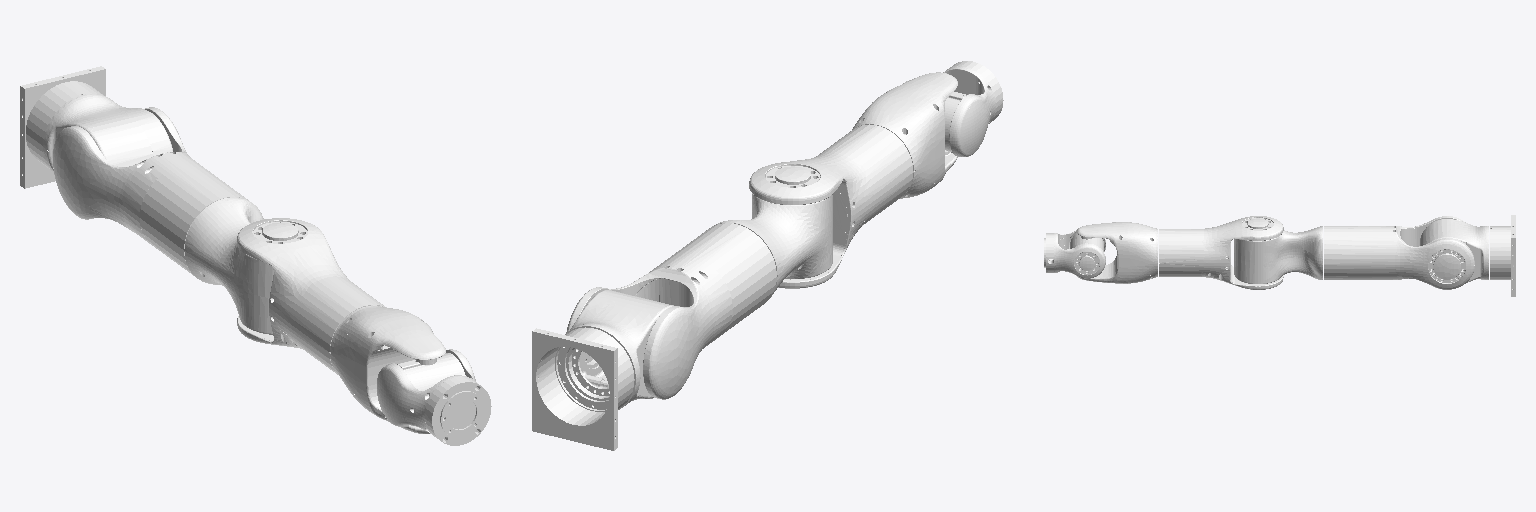
robot.urdf — hb:
<?xml version="1.0" ?>
<!-- =================================================================================== -->
<!-- |    This document was autogenerated by xacro from /home/hb_arm/hb_arm_ros/src/huibo_description/urdf/v2/hb.urdf.xacro | -->
<!-- |    EDITING THIS FILE BY HAND IS NOT RECOMMENDED                                 | -->
<!-- =================================================================================== -->
<robot name="hb">
  <material name="aluminum">
    <color rgba="0.5 0.5 0.5 1"/>
  </material>
  <material name="plastic">
    <color rgba="0.1 0.1 0.1 1"/>
  </material>
  <link name="world"/>
  
  <link name="right_arm_base_link">
    <inertial>
      <origin
        xyz="9.03326524692716E-10 -0.119958397416922 -0.00620409850104719"
        rpy="0 0 0" />
      <mass
        value="0.0671415769815536" />
      <inertia
        ixx="9.51750062461284E-05"
        ixy="-7.30135845175366E-13"
        ixz="-1.55986140816554E-12"
        iyy="0.000143710556150119"
        iyz="4.97688397307115E-06"
        izz="7.56630002321303E-05" />
    </inertial>
    <visual>
      <origin
        xyz="0 0 0"
        rpy="0 0 0" />
      <geometry>
        <mesh
          filename="package://huibo_description/meshes/right_arm_base_link.STL" />
      </geometry>
      <material
        name="">
        <color
          rgba="1 1 1 1" />
      </material>
    </visual>
    <collision>
      <origin
        xyz="0 0 0"
        rpy="0 0 0" />
      <geometry>
        <mesh
          filename="package://huibo_description/meshes/right_arm_base_link.STL" />
      </geometry>
    </collision>
  </link>
  <joint name="right_joint0" type="fixed">
    <origin
      xyz="0 0 0"
      rpy="0 0 0" />
    <parent
      link="world" />
    <child
      link="right_arm_base_link" />
    <axis
      xyz="0 0 0" />
  </joint>
  <link name="right_link1">
    <inertial>
      <origin
        xyz="0.00310007594390432 -4.01804102789782E-06 -0.0216577987063526"
        rpy="0 0 0" />
      <mass
        value="0.105773209586802" />
      <inertia
        ixx="0.000254333846536613"
        ixy="-2.28796237530128E-09"
        ixz="-1.28937015530947E-05"
        iyy="0.000192271240590925"
        iyz="-1.34137606334811E-08"
        izz="0.000142073719061018" />
    </inertial>
    <visual>
      <origin
        xyz="0 0 0"
        rpy="0 0 0" />
      <geometry>
        <mesh
          filename="package://huibo_description/meshes/right_link1.STL" />
      </geometry>
      <material
        name="">
        <color
          rgba="1 1 1 1" />
      </material>
    </visual>
    <collision>
      <origin
        xyz="0 0 0"
        rpy="0 0 0" />
      <geometry>
        <mesh
          filename="package://huibo_description/meshes/right_link1.STL" />
      </geometry>
    </collision>
  </link>
  <joint name="right_joint1" type="revolute">
    <origin
      xyz="0 -0.216 0"
      rpy="1.5708 3.14159 0" />
    <parent
      link="right_arm_base_link" />
    <child
      link="right_link1" />
    <axis
      xyz="0 0 1" />
    <limit
      lower="-3.106686016"
      upper="3.106686016"
      effort="0"
      velocity="0" />
  </joint>
  <link name="right_link2">
    <inertial>
      <origin
        xyz="0.0821514626056691 4.88290914146816E-07 0.00409838177831601"
        rpy="0 0 0" />
      <mass
        value="0.284653521482877" />
      <inertia
        ixx="0.000396832743321582"
        ixy="3.07846002516093E-09"
        ixz="0.000259049007612706"
        iyy="0.00146652495249631"
        iyz="1.69898927062168E-09"
        izz="0.00147410102916923" />
    </inertial>
    <visual>
      <origin
        xyz="0 0 0"
        rpy="0 0 0" />
      <geometry>
        <mesh
          filename="package://huibo_description/meshes/right_link2.STL" />
      </geometry>
      <material
        name="">
        <color
          rgba="1 1 1 1" />
      </material>
    </visual>
    <collision>
      <origin
        xyz="0 0 0"
        rpy="0 0 0" />
      <geometry>
        <mesh
          filename="package://huibo_description/meshes/right_link2.STL" />
      </geometry>
    </collision>
  </link>
  <joint name="right_joint2" type="revolute">
    <origin
      xyz="0 0 0"
      rpy="0 -1.5708 0" />
    <parent
      link="right_link1" />
    <child
      link="right_link2" />
    <axis
      xyz="0 0 1" />
    <limit
      lower="-2.094395067"
      upper="2.094395067"
      effort="0"
      velocity="0" />
  </joint>
  <link name="right_link3">
    <inertial>
      <origin
        xyz="-0.00291436923611121 0.00476864585184211 -0.0441892427801851"
        rpy="0 0 0" />
      <mass
        value="0.123533712885629" />
      <inertia
        ixx="0.000319012193658975"
        ixy="1.35725866537985E-06"
        ixz="-5.39691677614134E-06"
        iyy="0.000361652710631684"
        iyz="-3.00330155143357E-05"
        izz="0.000118266427511893" />
    </inertial>
    <visual>
      <origin
        xyz="0 0 0"
        rpy="0 0 0" />
      <geometry>
        <mesh
          filename="package://huibo_description/meshes/right_link3.STL" />
      </geometry>
      <material
        name="">
        <color
          rgba="1 1 1 1" />
      </material>
    </visual>
    <collision>
      <origin
        xyz="0 0 0"
        rpy="0 0 0" />
      <geometry>
        <mesh
          filename="package://huibo_description/meshes/right_link3.STL" />
      </geometry>
    </collision>
  </link>
  <joint name="right_joint3" type="revolute">
    <origin
      xyz="0.31 0 0"
      rpy="3.14159 -1.5708 0" />
    <parent
      link="right_link2" />
    <child
      link="right_link3" />
    <axis
      xyz="0 0 1" />
    <limit
      lower="-3.106686016"
      upper="3.106686016"
      effort="0"
      velocity="0" />
  </joint>
  <link name="right_link4">
    <inertial>
      <origin
        xyz="0.0634612854111615 -2.23162369528129E-07 0.0043441769349406"
        rpy="0 0 0" />
      <mass
        value="0.23231923033472" />
      <inertia
        ixx="0.00027587323333452"
        ixy="2.64938674502448E-08"
        ixz="0.000172594944789938"
        iyy="0.000835332613761274"
        iyz="-1.22420860766084E-08"
        izz="0.000833101311085542" />
    </inertial>
    <visual>
      <origin
        xyz="0 0 0"
        rpy="0 0 0" />
      <geometry>
        <mesh
          filename="package://huibo_description/meshes/right_link4.STL" />
      </geometry>
      <material
        name="">
        <color
          rgba="1 1 1 1" />
      </material>
    </visual>
    <collision>
      <origin
        xyz="0 0 0"
        rpy="0 0 0" />
      <geometry>
        <mesh
          filename="package://huibo_description/meshes/right_link4.STL" />
      </geometry>
    </collision>
  </link>
  <joint name="right_joint4" type="revolute">
    <origin
      xyz="0 0 0"
      rpy="1.5708 -1.5708 3.1459" />
    <parent
      link="right_link3" />
    <child
      link="right_link4" />
    <axis
      xyz="0 0 1" />
    <limit lower="-1.5708" upper="2.268927989" effort="0" velocity="0" />
  </joint>
  <link name="right_link5">
    <inertial>
      <origin
        xyz="-2.60221349401846E-06 -0.00381296804448183 -0.0671636478890294"
        rpy="0 0 0" />
      <mass
        value="0.104201667996597" />
      <inertia
        ixx="0.000149520066880692"
        ixy="-1.10859909174464E-09"
        ixz="-3.6420811702118E-08"
        iyy="0.000178193405871403"
        iyz="-1.7532599403269E-05"
        izz="9.0143920494967E-05" />
    </inertial>
    <visual>
      <origin
        xyz="0 0 0"
        rpy="0 0 0" />
      <geometry>
        <mesh
          filename="package://huibo_description/meshes/right_link5.STL" />
      </geometry>
      <material
        name="">
        <color
          rgba="1 1 1 1" />
      </material>
    </visual>
    <collision>
      <origin
        xyz="0 0 0"
        rpy="0 0 0" />
      <geometry>
        <mesh
          filename="package://huibo_description/meshes/right_link5.STL" />
      </geometry>
    </collision>
  </link>
  <joint name="right_joint5" type="revolute">
    <origin
      xyz="0.28 0 0"
      rpy="1.5708 3.14159 1.5708" />
    <parent
      link="right_link4" />
    <child
      link="right_link5" />
    <axis
      xyz="0 0 1" />
    <limit
      lower="-1.5708"
      upper="1.5708"
      effort="0"
      velocity="0" />
  </joint>
  <link name="right_link6">
    <inertial>
      <origin
        xyz="-4.38982366013363E-08 0.00658692441934428 -0.000132984127321212"
        rpy="0 0 0" />
      <mass
        value="0.021492752216086" />
      <inertia
        ixx="1.64043760303545E-05"
        ixy="-7.48461235974773E-12"
        ixz="-6.8018262436478E-12"
        iyy="1.56028384124993E-05"
        iyz="4.02726095194557E-08"
        izz="1.49391291039311E-05" />
    </inertial>
    <visual>
      <origin
        xyz="0 0 0"
        rpy="0 0 0" />
      <geometry>
        <mesh
          filename="package://huibo_description/meshes/right_link6.STL" />
      </geometry>
      <material
        name="">
        <color
          rgba="1 1 1 1" />
      </material>
    </visual>
    <collision>
      <origin
        xyz="0 0 0"
        rpy="0 0 0" />
      <geometry>
        <mesh
          filename="package://huibo_description/meshes/right_link6.STL" />
      </geometry>
    </collision>
  </link>
  <joint name="right_joint6" type="revolute">
    <origin
      xyz="0 0 0"
      rpy="1.5708 -1.5708 0" />
    <parent
      link="right_link5" />
    <child
      link="right_link6" />
    <axis
      xyz="0 0 -1" />
    <limit
      lower="-0.750491566"
      upper="0.750491566"
      effort="0"
      velocity="0" />
  </joint>
  <link name="right_link7">
    <inertial>
      <origin
        xyz="0.0342373339993434 1.07272353133681E-06 0.0052709269135755"
        rpy="0 0 0" />
      <mass
        value="0.0613135142457787" />
      <inertia
        ixx="3.40873334021649E-05"
        ixy="-3.60802636762069E-09"
        ixz="8.59620311459112E-06"
        iyy="4.36623823969248E-05"
        iyz="-1.14446984499256E-09"
        izz="4.42602150677363E-05" />
    </inertial>
    <visual>
      <origin
        xyz="0 0 0"
        rpy="0 0 0" />
      <geometry>
        <mesh
          filename="package://huibo_description/meshes/right_link7.STL" />
      </geometry>
      <material
        name="">
        <color
          rgba="1 1 1 1" />
      </material>
    </visual>
    <collision>
      <origin
        xyz="0 0 0"
        rpy="0 0 0" />
      <geometry>
        <mesh
          filename="package://huibo_description/meshes/right_link7.STL" />
      </geometry>
    </collision>
  </link>
  <joint name="right_joint7" type="revolute">
    <origin
      xyz="0 0 0"
      rpy="-1.5708 0 0" />
    <parent
      link="right_link6" />
    <child
      link="right_link7" />
    <axis
      xyz="0 0 1" />
    <limit
      lower="-0.750491566"
      upper="0.750491566"
      effort="0"
      velocity="0" />
  </joint>

  <link name="right_arm_end_link"/>
    
  <joint name="right_end_joint" type="fixed">
    <origin
      xyz="0.068 0 0"
      rpy="1.5708 0 0" />
    <parent
      link="right_link7" />
    <child
      link="right_arm_end_link" />
    <axis
      xyz="0 0 0" />
  </joint>

  <link name="right_gripper_base_link"/>
    
  <joint name="right_gripper_joint" type="fixed">
    <origin
      xyz="0.0 0 0"
      rpy="0 0 0" />
    <parent
      link="right_arm_end_link" />
    <child
      link="right_gripper_base_link" />
    <axis
      xyz="0 0 0" />
  </joint>

</robot>

--- Render facts (derived) ---
The picture shows the robot from 3 angles, left to right: view 1: azimuth 30°, elevation 25°; view 2: azimuth 150°, elevation 25°; view 3: azimuth 270°, elevation 25°; orthographic projection.
Robot: hb — 11 links, 10 joints (7 revolute, 3 fixed); root link world; default pose: all joints at 0.
Visible links, largest first — view 1: right_link2, right_link4, right_link5, right_link3, right_link7, right_link1, right_arm_base_link, right_link6; view 2: right_link2, right_link4, right_arm_base_link, right_link5, right_link3, right_link1, right_link7; view 3: right_link2, right_link4, right_link3, right_link5, right_link7, right_link1, right_arm_base_link.
Boxes of the visible links, x1,y1,x2,y2 form: right_link2: (53,107,247,275); right_link4: (237,218,386,374); right_link5: (330,305,445,433); right_link3: (184,197,273,334); right_link7: (377,349,491,445); right_link1: (43,94,172,172); right_arm_base_link: (20,66,105,188); right_link6: (397,353,465,390); right_link2: (566,223,776,399); right_link4: (749,124,913,288); right_arm_base_link: (532,327,634,450); right_link5: (852,72,957,198); right_link3: (714,194,832,296); right_link1: (560,290,673,409); right_link7: (903,61,1003,156); right_link2: (1324,216,1474,289); right_link4: (1159,216,1283,289); right_link3: (1234,226,1322,283); right_link5: (1077,222,1157,283); right_link7: (1044,230,1105,278); right_link1: (1420,219,1488,282); right_arm_base_link: (1490,215,1515,296).
Bounding box of the posed robot: 0.1141 × 0.772 × 0.1141 m (x, y, z).
8 mesh visuals loaded from 8 distinct referenced files (8 binary STL).
